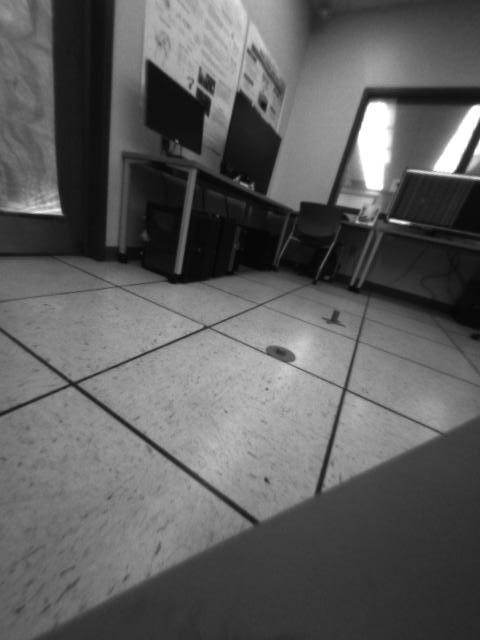X: (320, 309, 344, 328)
